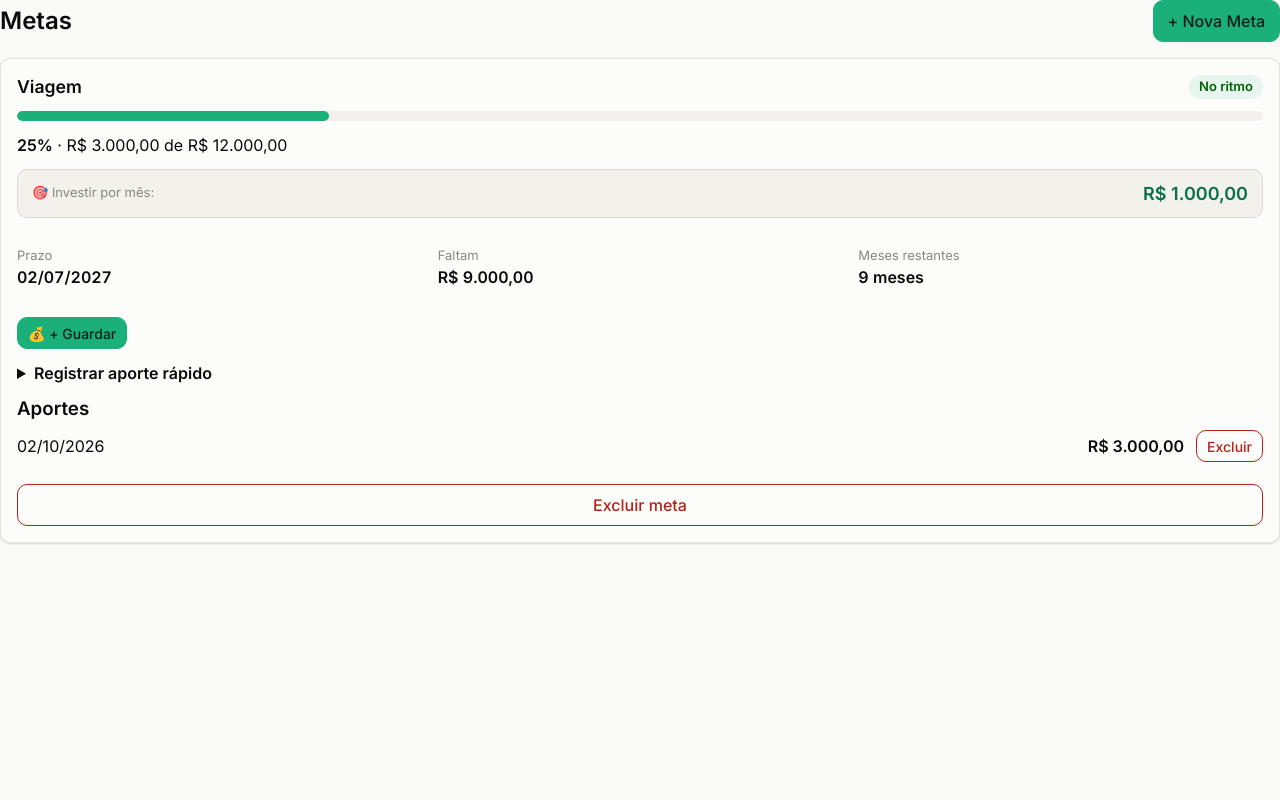
Test: GoalsPage › opens the new goal modal and displays the interactive simulation
Click the button with aria-label "Abrir formulário de nova meta".
click(1216, 21)  # box [1152,0,1279,42]
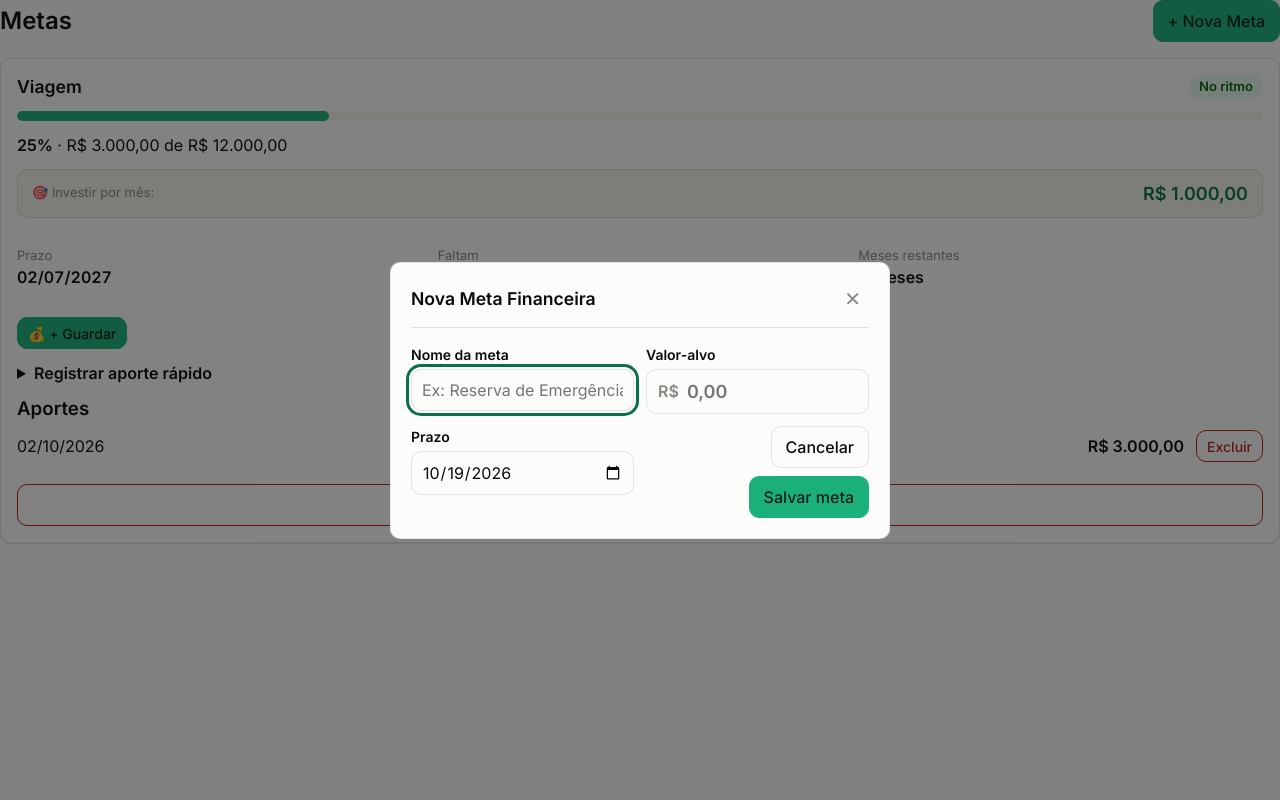
Check: the dialog "Nova Meta Financeira" is shown, box [390,262,890,538]
Type "24.000" into the field labelled "Valor-alvo".
click(758, 391); type("24.000")  # box [646,368,869,414]
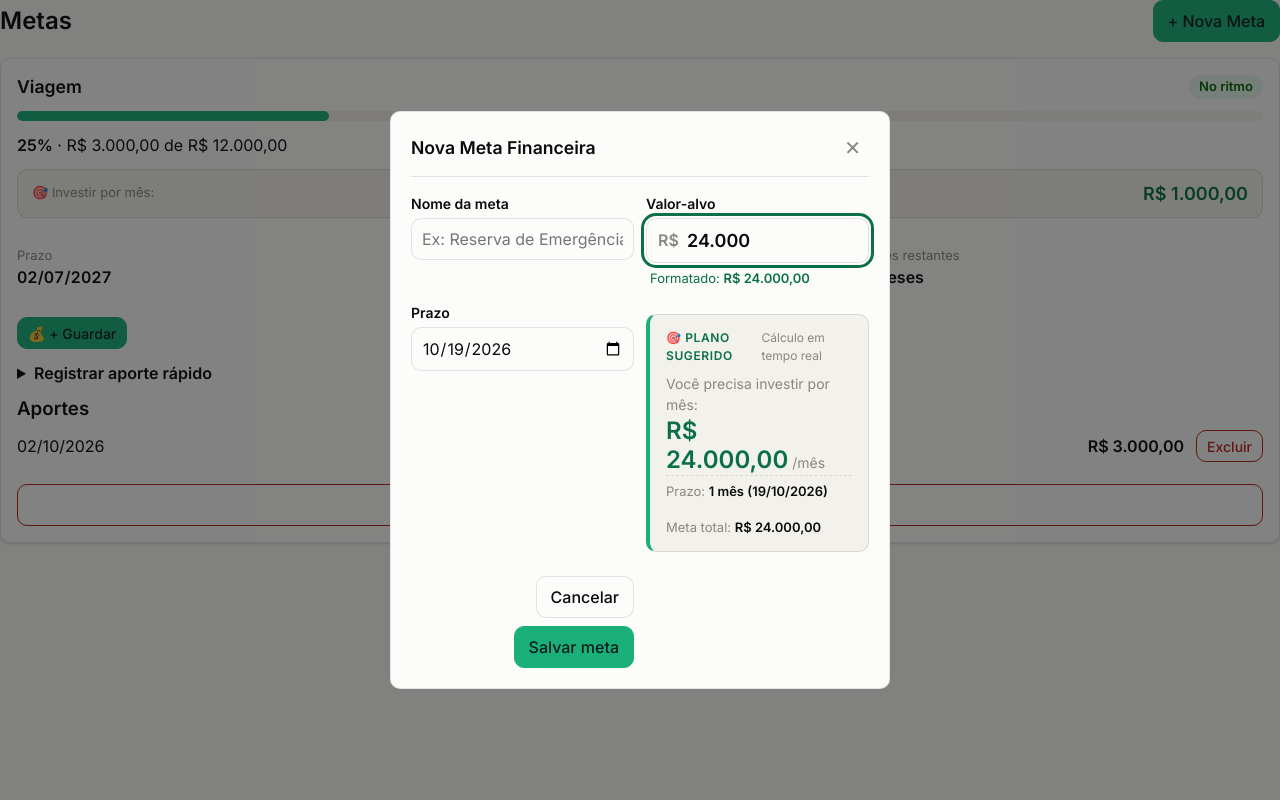
Clear the date field labelled "Prazo" at (522,350), box [411,328,634,372]
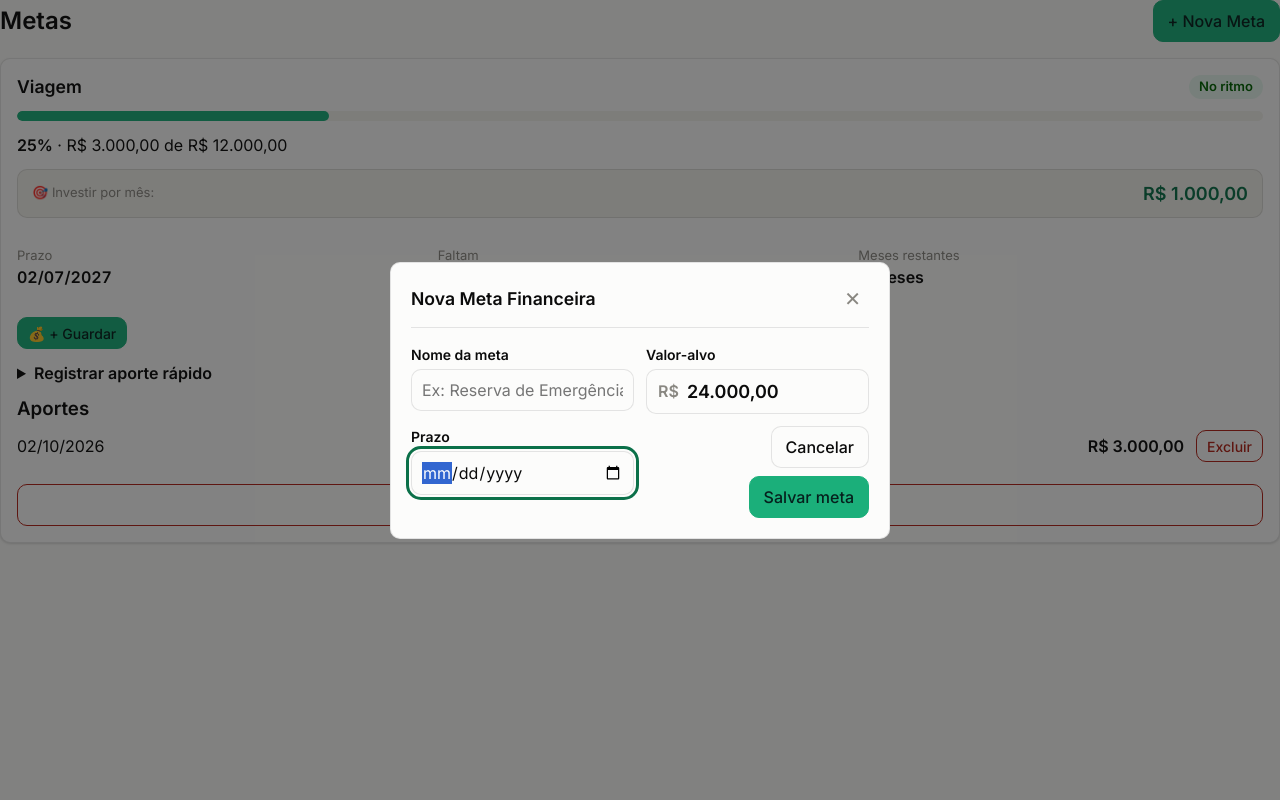
Type "2028-10-01" into the date field labelled "Prazo".
click(522, 472); type("2028-10-01")  # box [411,450,634,494]
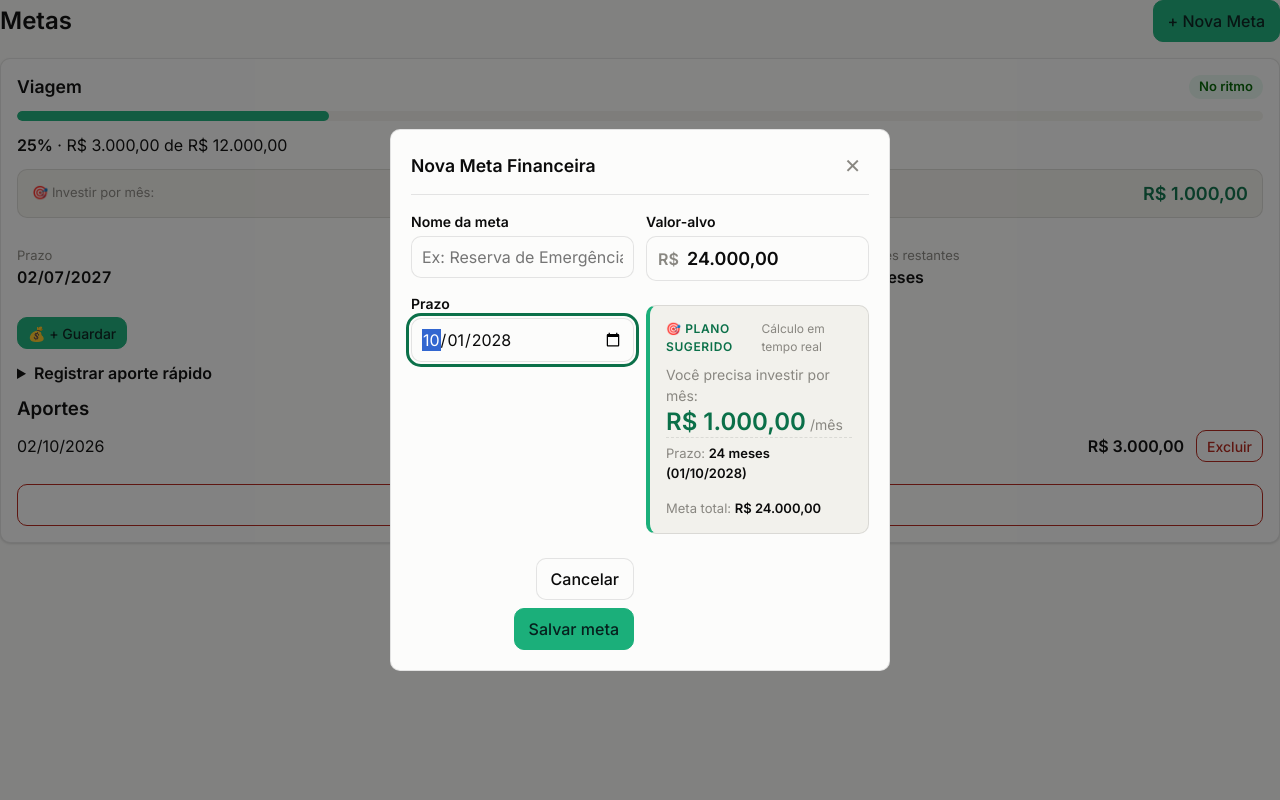
Check: the element named "Simulação do plano" is shown, box [646,305,869,534]
Check: the text "Você precisa investir por mês:" is shown, box [666,364,852,406]
